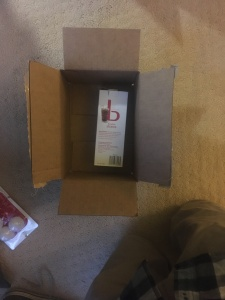innerbox: (58, 70, 137, 181)
outerbox: (29, 27, 171, 218)
product: (95, 90, 125, 168)
